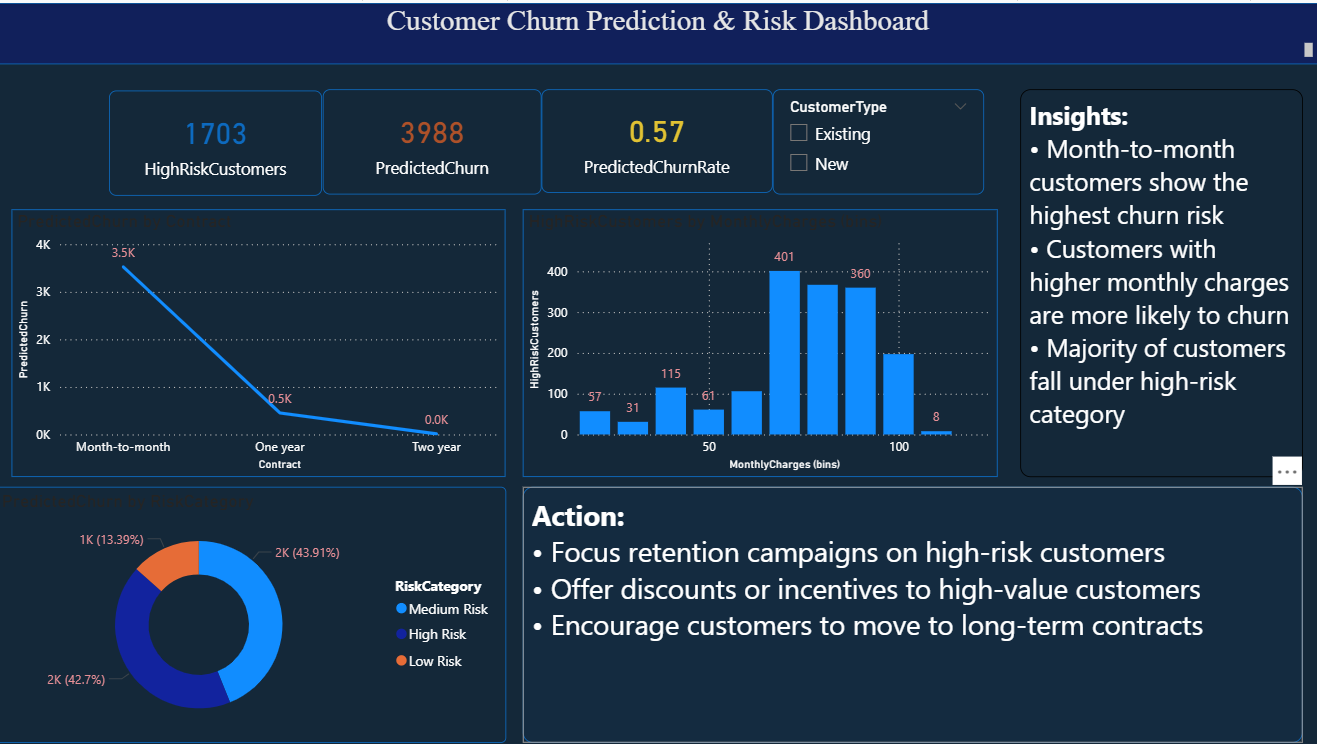

What the dashboard file says about the page in this screenshot:
{"tool":"powerbi","page":{"name":"Page 2","canvas":[1280,720],"ordinal":1},"visuals":[{"type":"textbox","title":"Customer Churn Prediction & Risk Dashboard","box":[0,0,1280,59.4],"z":0},{"type":"card","fields":{"Values":["churn_predictions1.HighRiskCustomers"]},"box":[111.4,84.3,205.7,101.4],"z":1},{"type":"card","fields":{"Values":["churn_predictions1.PredictedChurnRate"]},"box":[528.6,82.9,222.9,100],"z":2},{"type":"card","fields":{"Values":["churn_predictions1.PredictedChurn"]},"box":[317.1,82.9,211.4,101.4],"z":3},{"type":"lineChart","fields":{"Category":["churn_predictions1.Contract"],"Y":["churn_predictions1.PredictedChurn"]},"box":[17.1,198.6,477.1,258.6],"z":4},{"type":"donutChart","fields":{"Category":["churn_predictions1.RiskCategory"],"Y":["churn_predictions1.PredictedChurn"]},"box":[0,467.1,494.3,247.1],"z":5},{"type":"lineStackedColumnComboChart","fields":{"Category":["churn_predictions1.MonthlyCharges (bins)"],"Y":["churn_predictions1.HighRiskCustomers"]},"box":[510,198.6,458.6,258.6],"z":6},{"type":"slicer","fields":{"Values":["churn_predictions1.CustomerType"]},"box":[751.4,82.9,204.3,101.4],"z":7},{"type":"textbox","box":[990,82.9,272.9,374.3],"z":8},{"type":"textbox","box":[510,467.1,752.9,247.1],"z":9}]}

Visuals, with their boxes in screenshot pixels (x1, y1, x2, y2), scaled from the page's 1280x720 canvas onto the 1317x744 screenshot:
"Customer Churn Prediction & Risk Dashboard" textbox: <box>0,0,1316,61</box>
card - churn_predictions1.HighRiskCustomers: <box>115,87,326,192</box>
card - churn_predictions1.PredictedChurnRate: <box>544,86,773,189</box>
card - churn_predictions1.PredictedChurn: <box>326,86,544,190</box>
lineChart - churn_predictions1.Contract x churn_predictions1.PredictedChurn: <box>18,205,508,472</box>
donutChart - churn_predictions1.RiskCategory x churn_predictions1.PredictedChurn: <box>0,483,509,738</box>
lineStackedColumnComboChart - churn_predictions1.MonthlyCharges (bins) x churn_predictions1.HighRiskCustomers: <box>525,205,997,472</box>
slicer - churn_predictions1.CustomerType: <box>773,86,983,190</box>
textbox: <box>1019,86,1299,472</box>
textbox: <box>525,483,1299,738</box>
